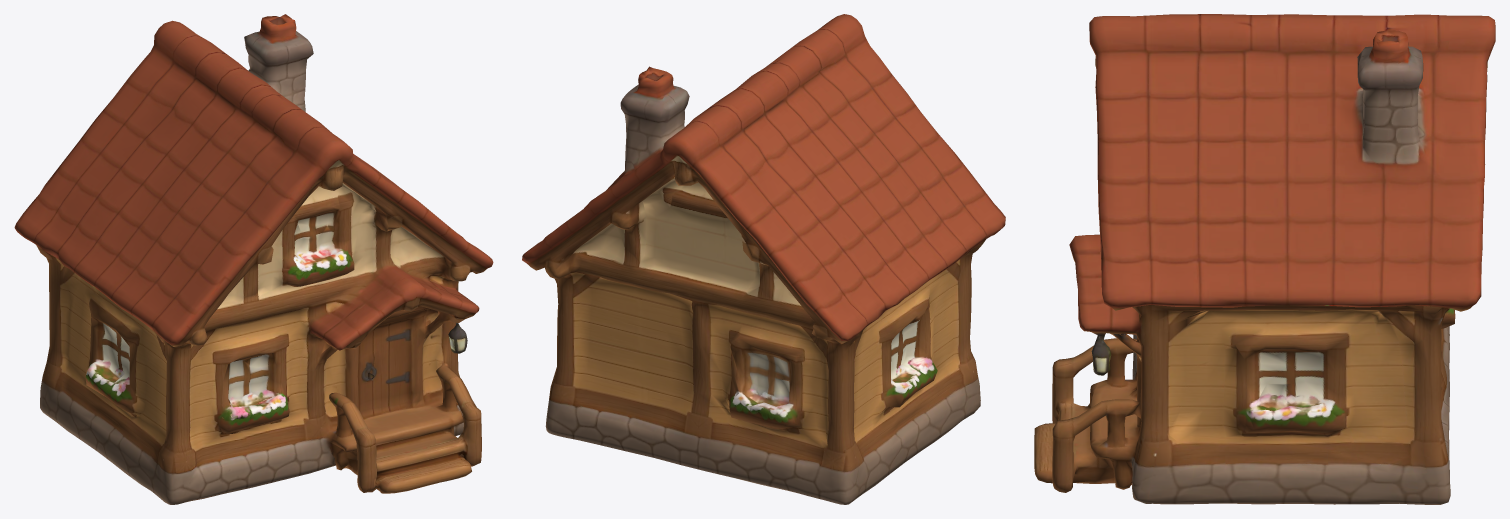
The picture shows the model from 3 angles, left to right: view 1: azimuth 30°, elevation 25°; view 2: azimuth 150°, elevation 25°; view 3: azimuth 270°, elevation 25°; orthographic projection. The views are drawn at different scales.
Visible parts, largest first — view 1: house-wood; view 2: house-wood; view 3: house-wood.
Boxes of the visible parts, left/top/right/bottom form: house-wood: left=14, top=14, right=493, bottom=504; house-wood: left=522, top=14, right=1005, bottom=504; house-wood: left=1034, top=14, right=1495, bottom=504.
Size of the model in its own units: 5.7 by 6 by 5.93.
Materials: 1 (1 with a texture image).
